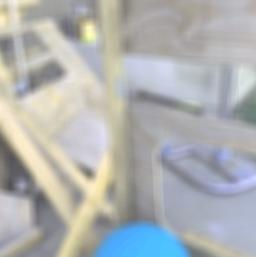algae: (93, 220, 195, 257)
